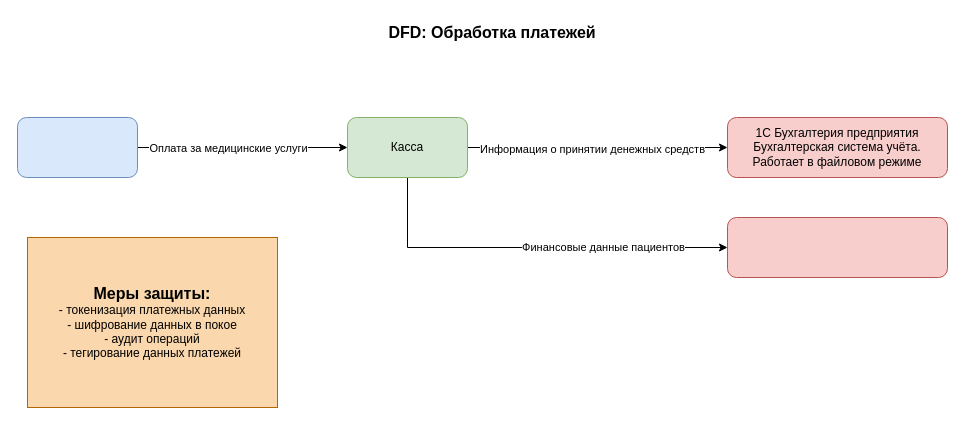
This 965x425 diagram has some shape labels left out. Here are the shapes that lost their labels. From the top down, the centre of each, then its label:
point 77,147: Пациент
point 837,247: Excel-файл с платежами
